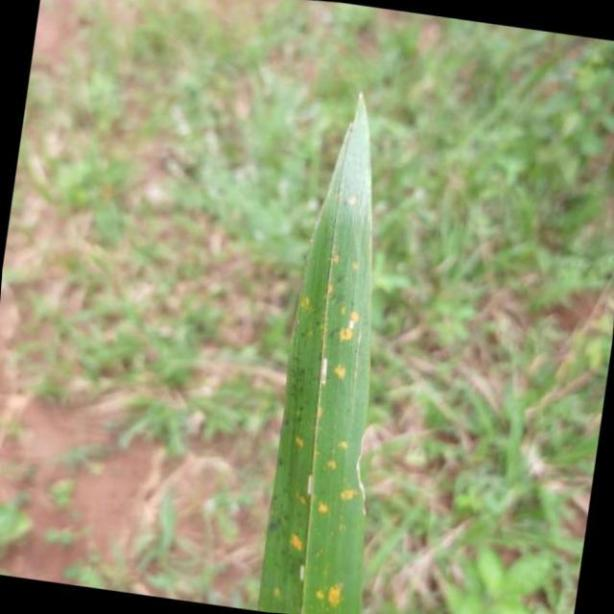Kalium: (258, 83, 393, 614)
